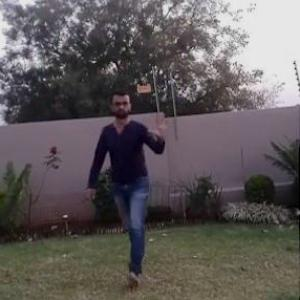follow_hand: (146, 109, 170, 139)
